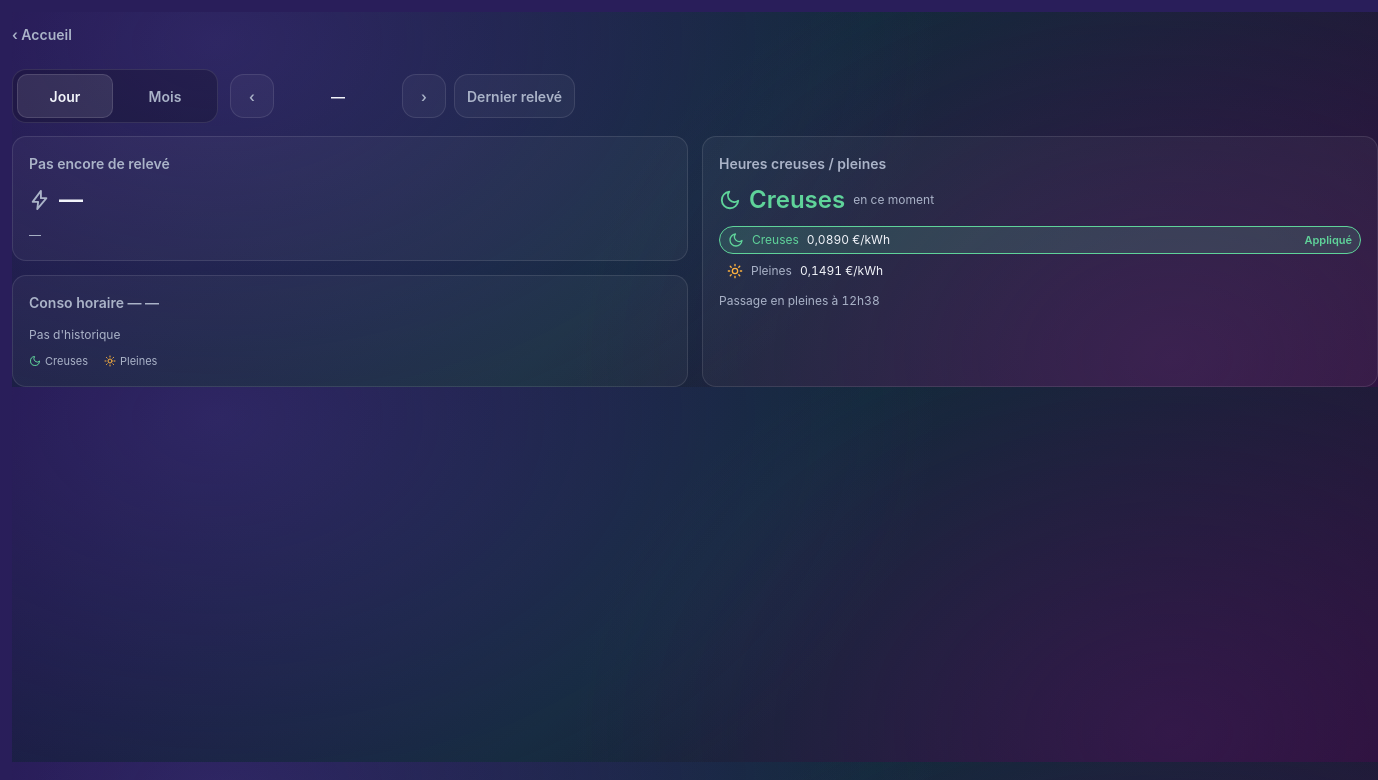
ElectricityDetail (Story 9.5 — ‹ ›, Jour / Mois, « Dernier relevé ») › current month compares « à date » through TRUNCATED windows HA computes — the app sums nothing
Click the tab "Mois" at (165, 96), box [117, 74, 213, 118]
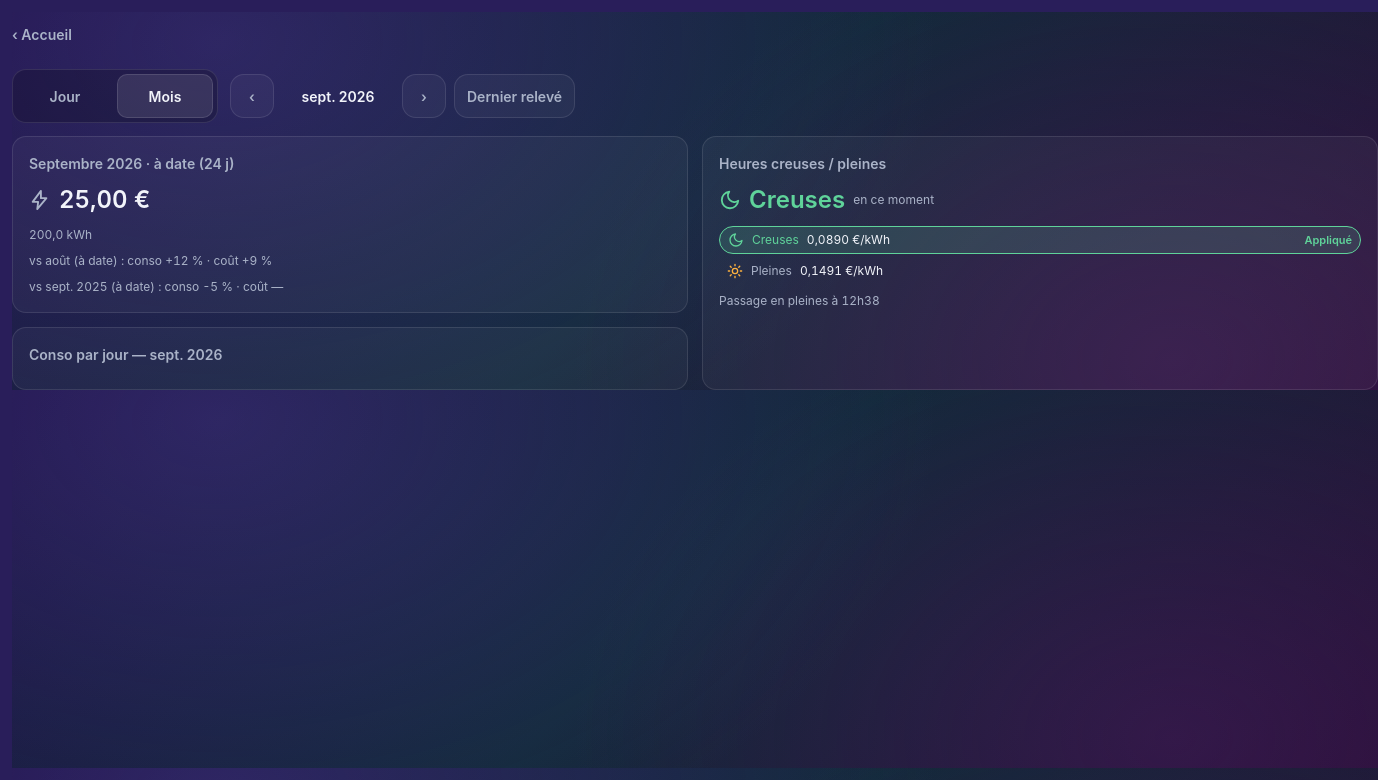
Result: the text "vs août (à date) : conso +12 % · coût +9 %" is shown at [29, 253, 272, 268]
Result: the text "vs sept. 2025 (à date) : conso -5 % · coût —" is shown at [29, 279, 283, 294]
